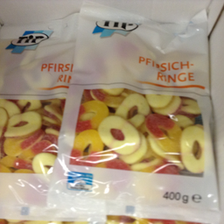candy: (62, 4, 220, 221), (1, 14, 91, 221)
